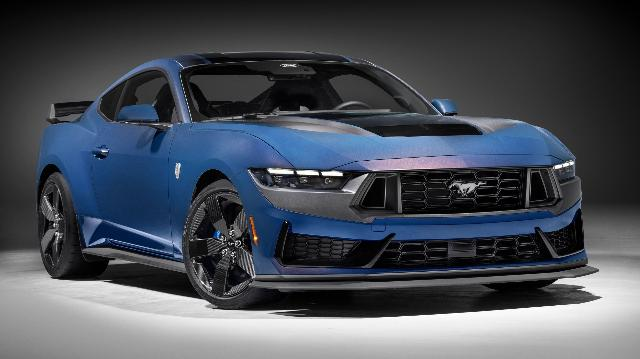ford-mustang: (34, 49, 600, 309)
